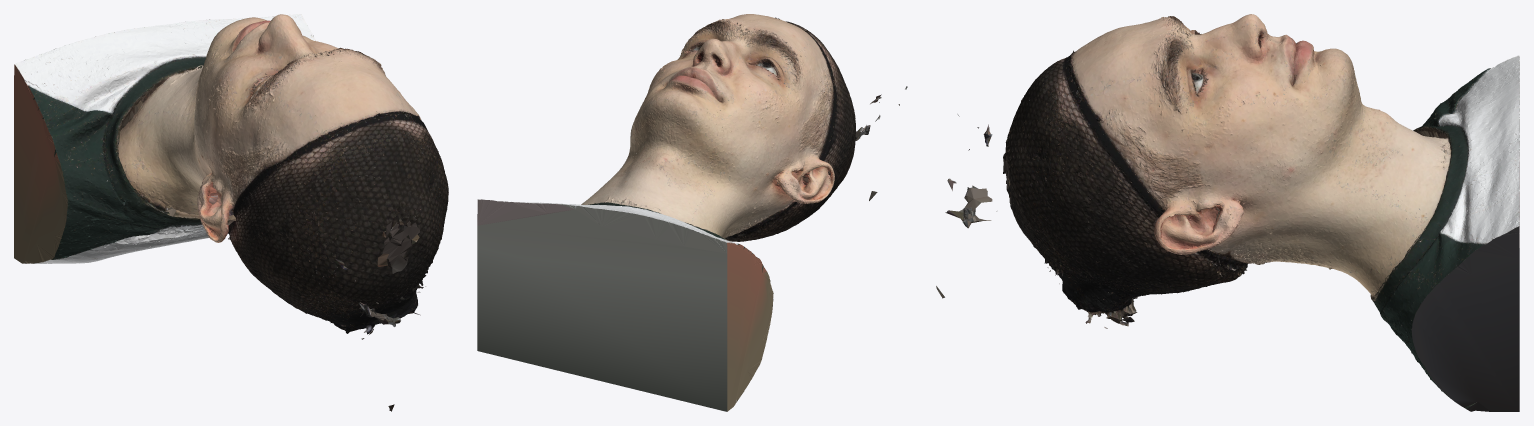
The model's file is TV3-web.glb.
The picture shows the model from 3 angles, left to right: view 1: azimuth 30°, elevation 25°; view 2: azimuth 150°, elevation 25°; view 3: azimuth 270°, elevation 25°; orthographic projection. The views are drawn at different scales.
Parts seen in each view (by area): view 1: T_low; view 2: T_low; view 3: T_low.
Boxes of the visible parts, x1=… form: T_low: x1=14, y1=14, x2=448, y2=411; T_low: x1=477, y1=14, x2=907, y2=411; T_low: x1=936, y1=14, x2=1519, y2=411.
Size of the model in its own units: 23.78 by 23.8 by 39.23.
1 material, 1 textured.
